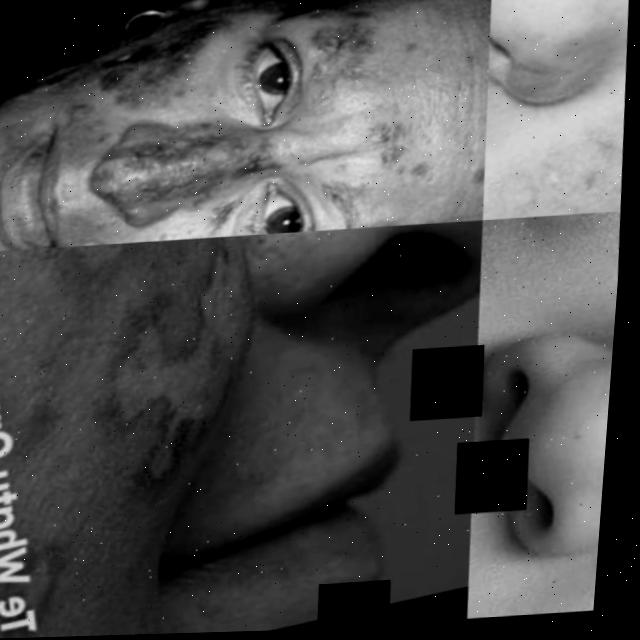lupus-detected: (0, 229, 351, 564), (0, 357, 131, 640), (76, 58, 277, 222), (277, 0, 417, 232), (475, 18, 634, 219), (70, 0, 224, 119), (480, 0, 633, 117), (420, 67, 493, 224), (477, 211, 622, 276), (25, 204, 213, 249), (0, 110, 7, 252)
